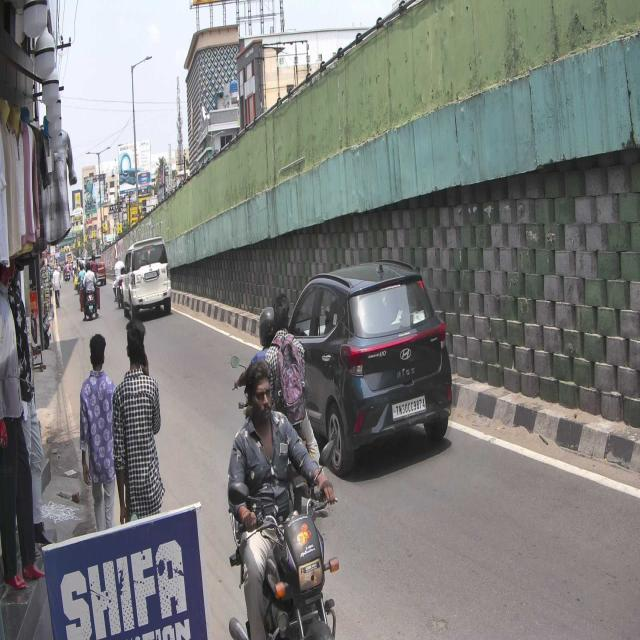single_rider: (226, 363, 343, 640)
